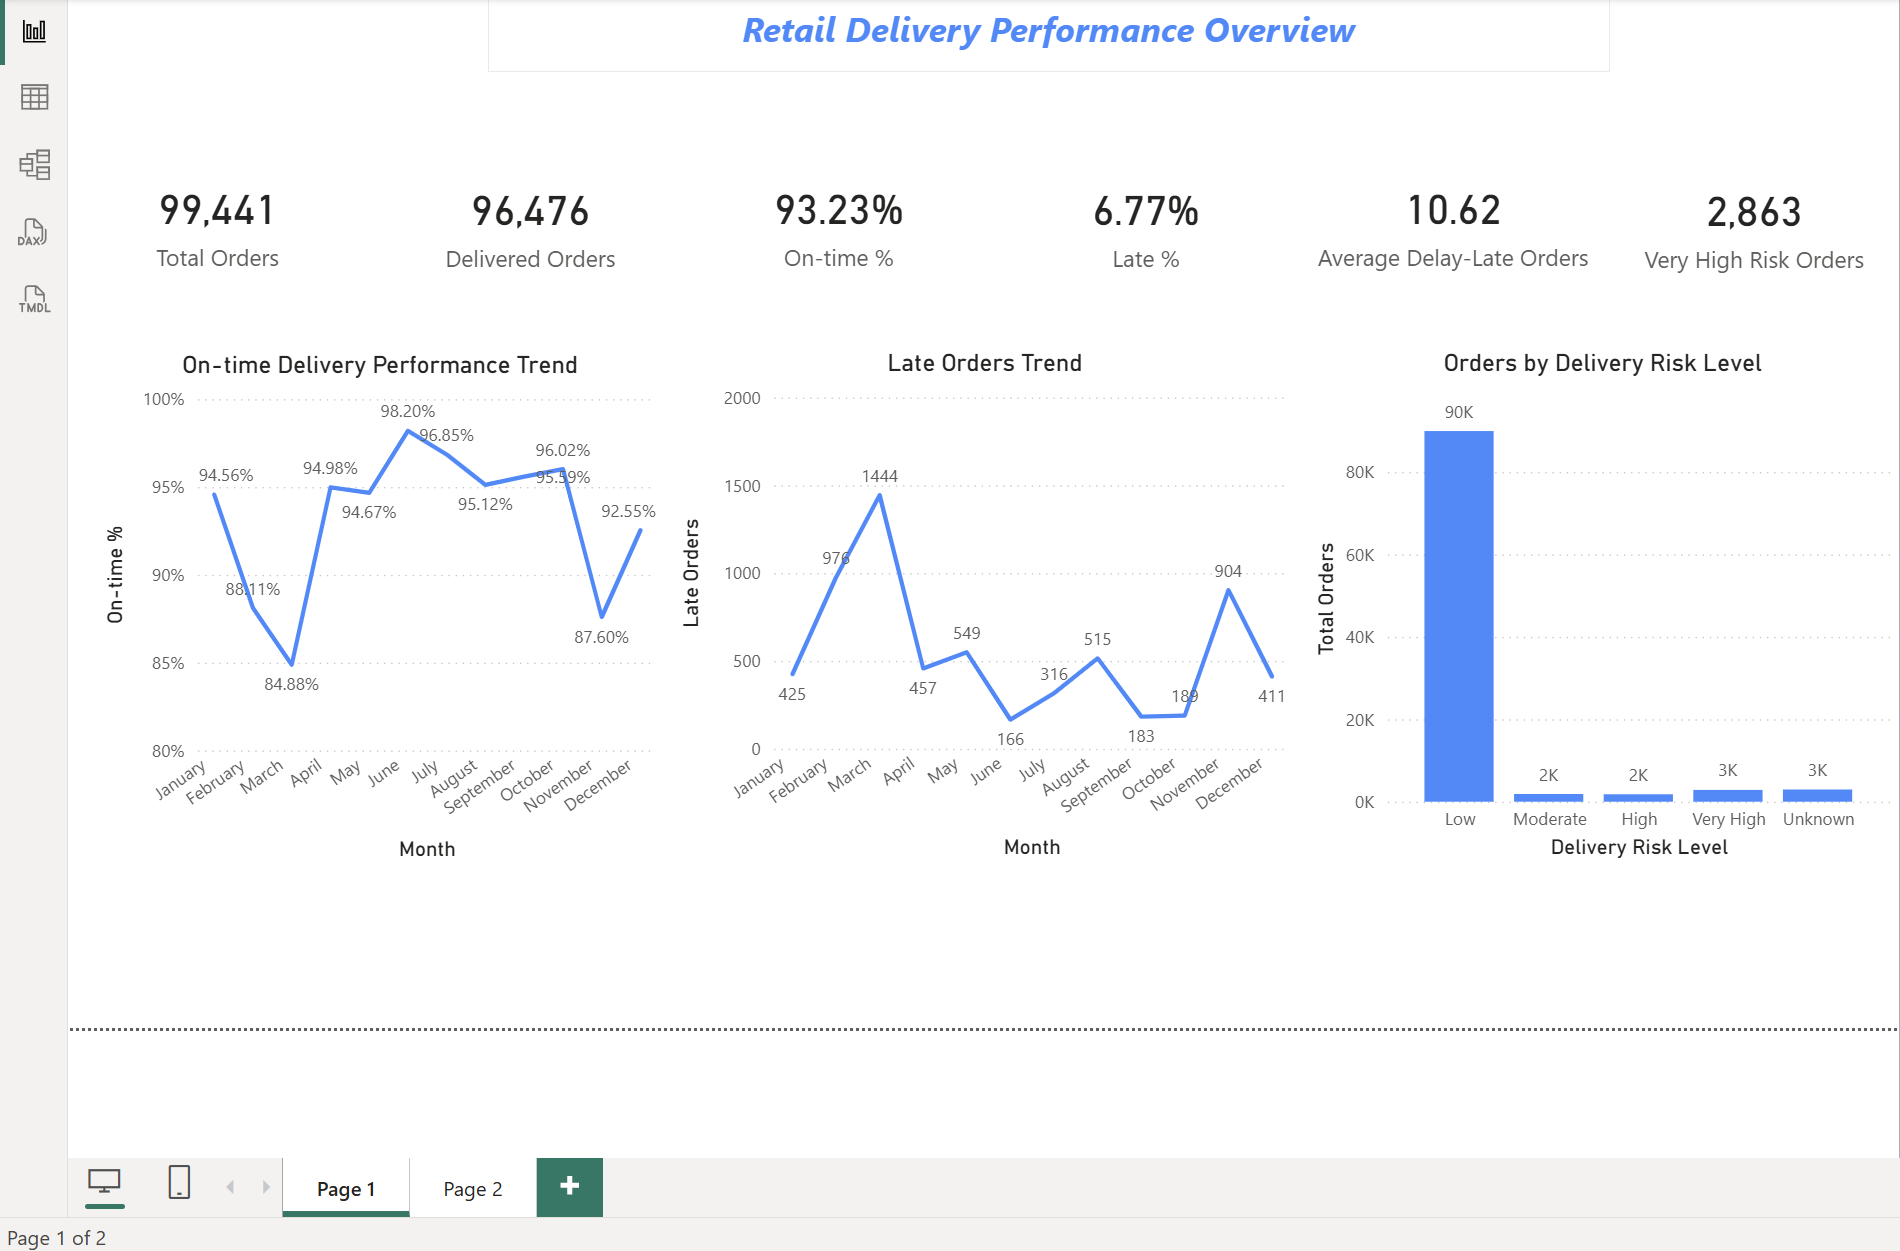

The page's visual inventory and layout, read from the dashboard file:
{"tool":"powerbi","page":{"name":"Page 1","canvas":[1280,720],"ordinal":0},"visuals":[{"type":"card","fields":{"Values":["final_orders.Total Orders"]},"box":[10.4,88.9,188.6,135.1],"z":0},{"type":"card","fields":{"Values":["final_orders.Delivered Orders"]},"box":[217.4,88.9,212.3,136.6],"z":1000},{"type":"card","fields":{"Values":["final_orders.On-time %"]},"box":[437.7,88.9,201.9,135.1],"z":2000},{"type":"card","fields":{"Values":["final_orders.Late %"]},"box":[647.7,88.9,210.9,136.6],"z":3000},{"type":"card","fields":{"Values":["final_orders.Average Delay — Late Orders"]},"box":[866.6,88.9,203.4,135.1],"z":4000},{"type":"card","fields":{"Values":["final_orders.Very High Risk Orders"]},"box":[1078,88.9,201.9,138.1],"z":5000},{"type":"lineChart","title":"On-time Delivery Performance Trend","fields":{"Category":["final_orders.order_purchase_timestamp.Variation.Date Hierarchy.Month"],"Y":["final_orders.On-time %"]},"box":[20,246.2,396.2,361.2],"z":6000},{"type":"clusteredColumnChart","title":"Orders by Delivery Risk Level","fields":{"Category":["final_orders.delivery_risk_level"],"Y":["final_orders.Total Orders"]},"box":[866.2,245.6,412.5,361.2],"z":7000},{"type":"lineChart","title":"Late Orders Trend","fields":{"Category":["final_orders.order_purchase_timestamp.Variation.Date Hierarchy.Month"],"Y":["final_orders.Late Orders"]},"box":[423.1,245.6,436.2,361.2],"z":8000},{"type":"textbox","box":[294,0,784,52],"z":9000}]}

Visuals, with their boxes on the page's 1280x720 design canvas (x1, y1, x2, y2). These are canvas units, not pixel positions in the 1900x1251 screenshot, which may show the page scaled, cropped or inside an application window:
card - final_orders.Total Orders: 10:89:199:224
card - final_orders.Delivered Orders: 217:89:430:226
card - final_orders.On-time %: 438:89:640:224
card - final_orders.Late %: 648:89:859:226
card - final_orders.Average Delay — Late Orders: 867:89:1070:224
card - final_orders.Very High Risk Orders: 1078:89:1280:227
"On-time Delivery Performance Trend" lineChart: 20:246:416:607
"Orders by Delivery Risk Level" clusteredColumnChart: 866:246:1279:607
"Late Orders Trend" lineChart: 423:246:859:607
textbox: 294:0:1078:52
